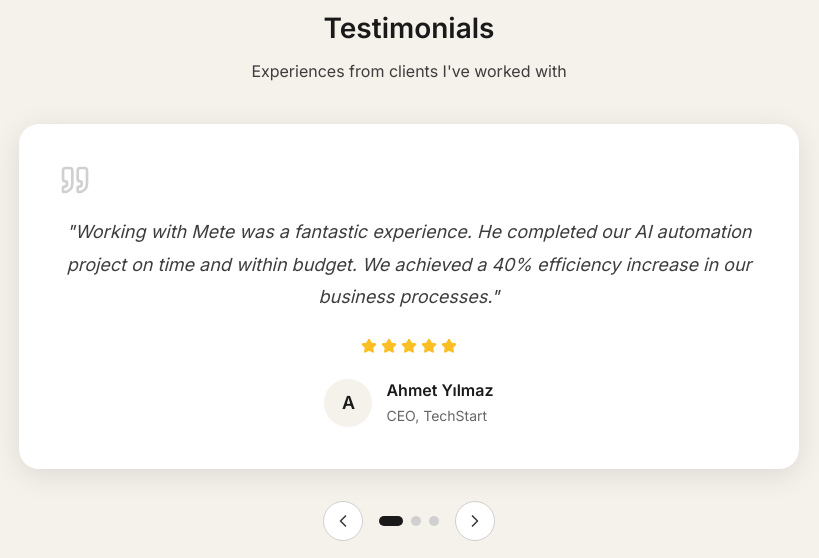
Test: Testimonials › navigation › navigates via dots
Click the 3rd button with class "dot" at (434, 521), box [429,516,439,526]
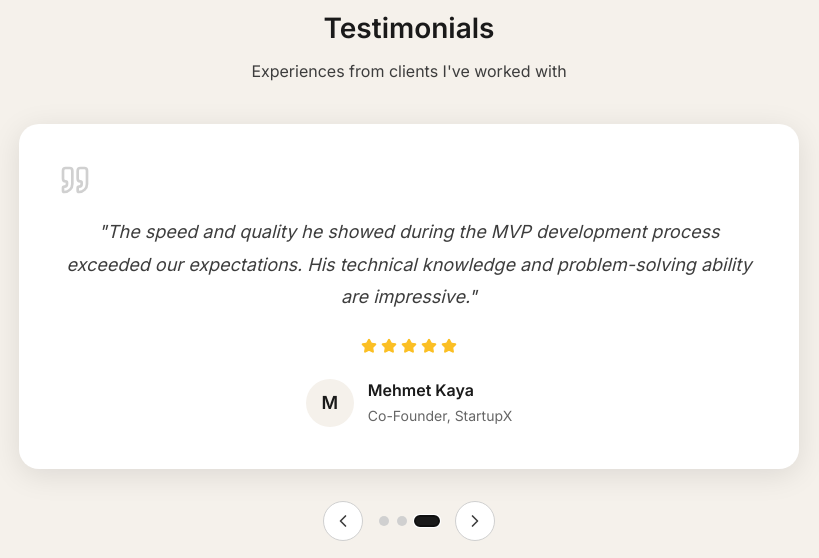
Expected: the text "Mehmet Kaya" is shown, [368,380,474,400]
